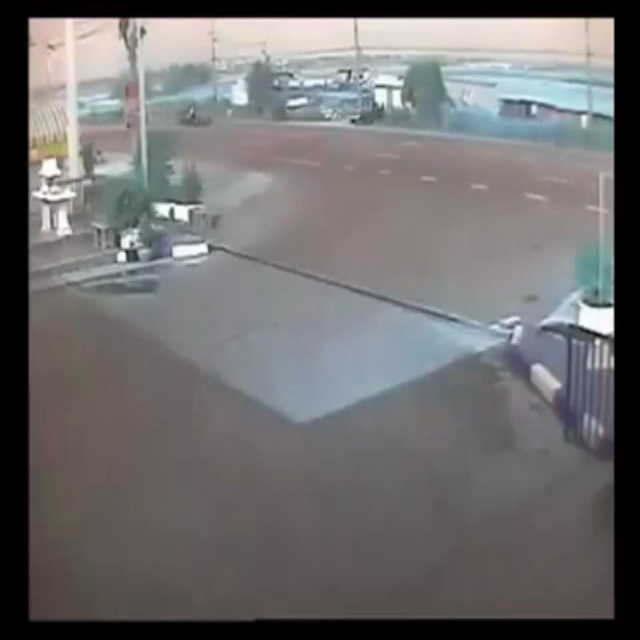acc: (173, 102, 218, 134)
